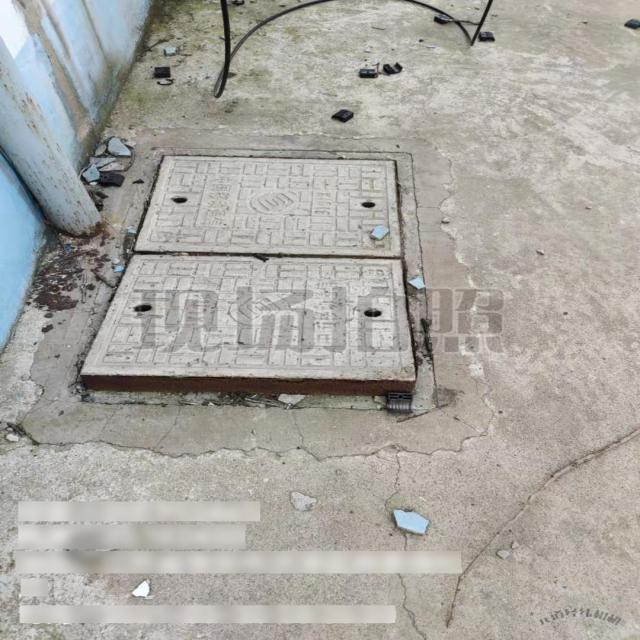Faulty: (62, 146, 438, 410)
